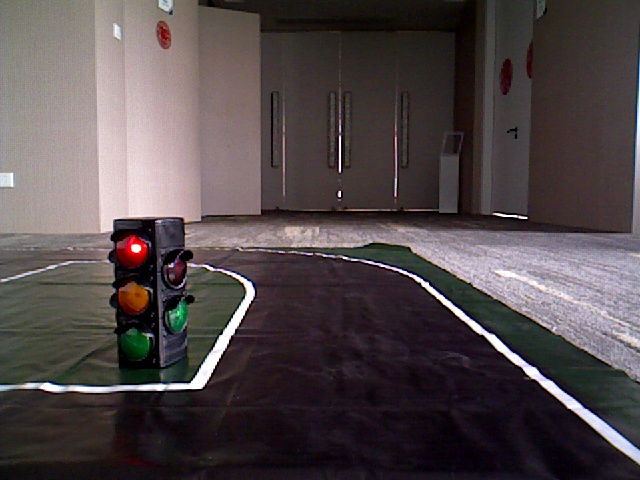red: (113, 225, 165, 367)
